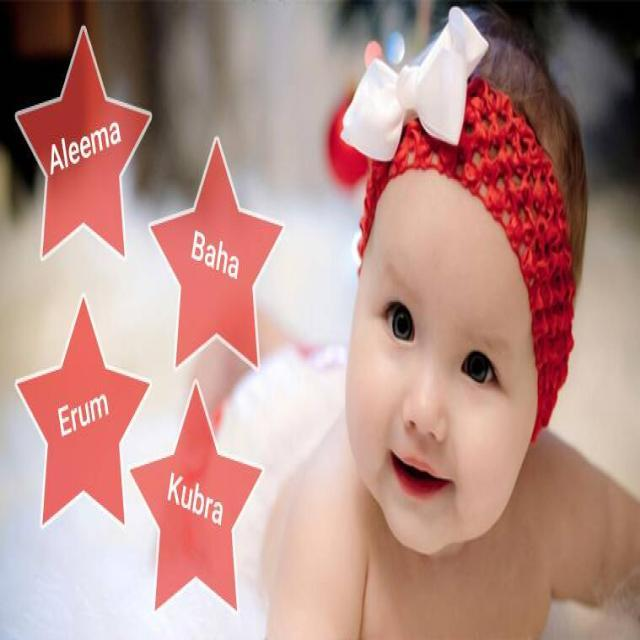non-dog: (245, 4, 640, 640)
